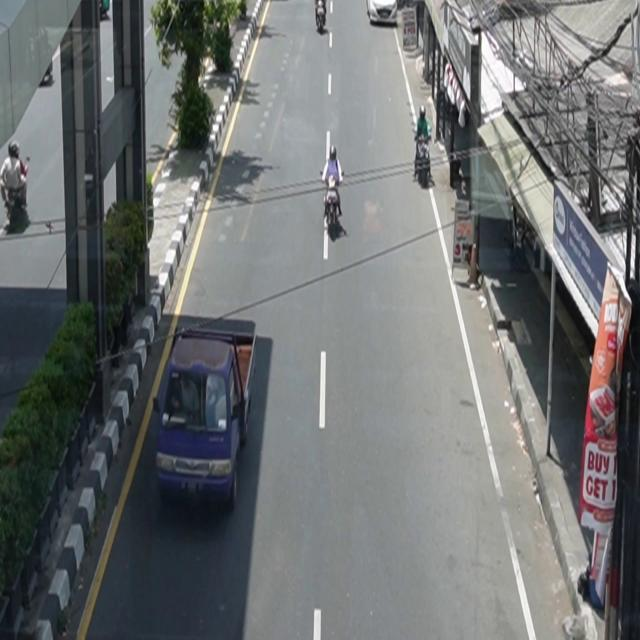car: (153, 319, 258, 514), (367, 1, 398, 26)
